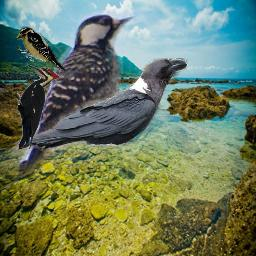Crow: (15, 58, 188, 152)
Woodpecker: (7, 4, 148, 186), (17, 64, 62, 149), (15, 25, 66, 72)
